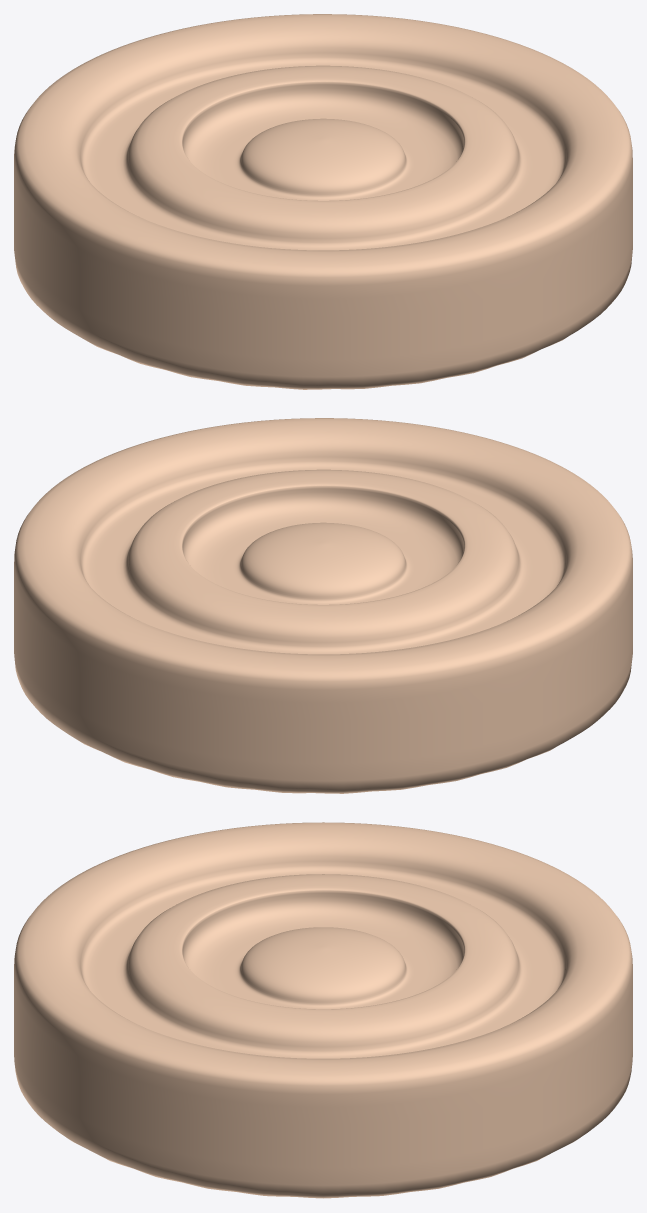
The model's file is Checkers.fbx_white.fbx.
3 views of the same model, one above another, from view 1: azimuth 30°, elevation 25°; view 2: azimuth 150°, elevation 25°; view 3: azimuth 270°, elevation 25° (orthographic).
Parts seen in each view (by area): view 1: white; view 2: white; view 3: white.
Boxes of the visible parts, x1=… form: white: x1=14, y1=14, x2=632, y2=389; white: x1=14, y1=418, x2=632, y2=793; white: x1=14, y1=822, x2=632, y2=1198.
Size of the model in its own units: 199 by 44.55 by 199.
